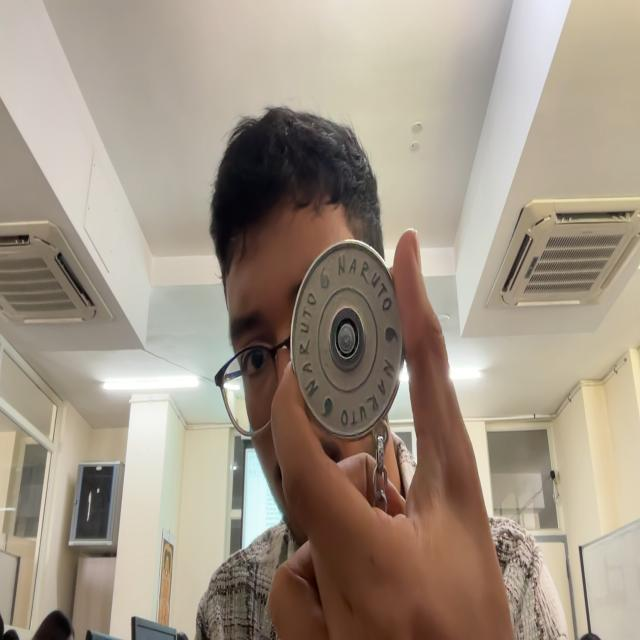dangerous: (291, 241, 404, 519)
